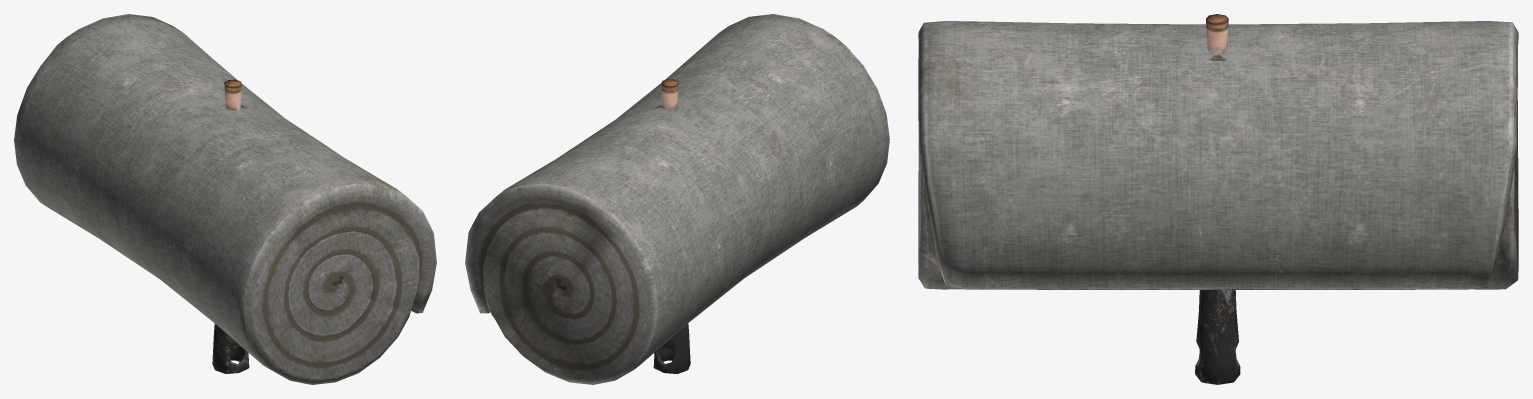
Rendered from musketAssets_LP.fbx.
The picture shows the model from 3 angles, left to right: view 1: azimuth 30°, elevation 25°; view 2: azimuth 150°, elevation 25°; view 3: azimuth 270°, elevation 25°; orthographic projection. The views are drawn at different scales.
Visible parts, largest first — view 1: Blanket_LP, Worm_LP, Flask_LP; view 2: Blanket_LP, Worm_LP, Flask_LP; view 3: Blanket_LP, Worm_LP, Flask_LP.
Boxes of the visible parts, x1,y1,x2,y2 form: Blanket_LP: (14, 14, 436, 384); Worm_LP: (212, 323, 249, 373); Flask_LP: (224, 79, 247, 110); Blanket_LP: (465, 14, 889, 384); Worm_LP: (653, 323, 690, 373); Flask_LP: (655, 79, 678, 110); Blanket_LP: (918, 21, 1518, 289); Worm_LP: (1195, 290, 1240, 384); Flask_LP: (1206, 14, 1228, 60).
Bounding box in the file's own units: 0.222 × 0.3018 × 0.4586.
